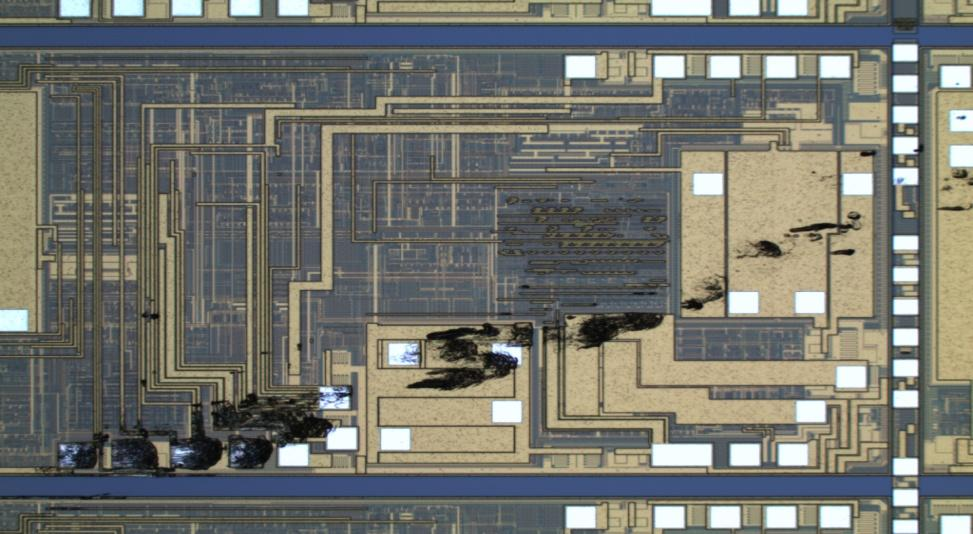SCRATCH: (26, 99, 973, 523)
